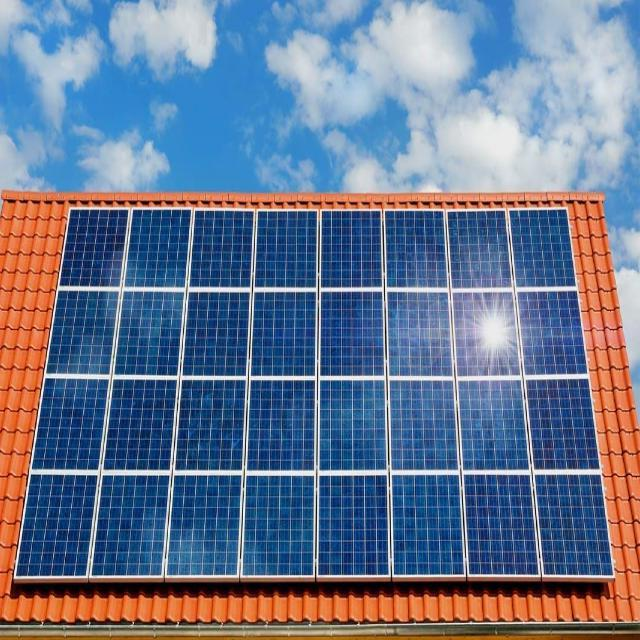no faulty: (25, 207, 617, 582)
